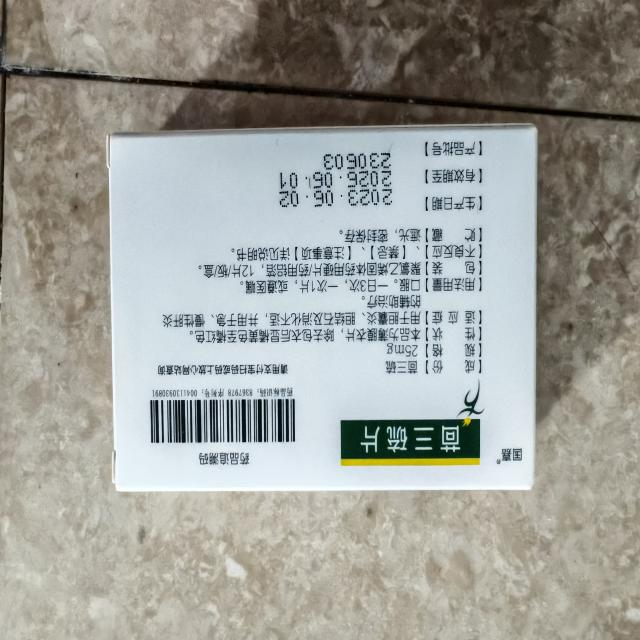box: (97, 114, 547, 508)
